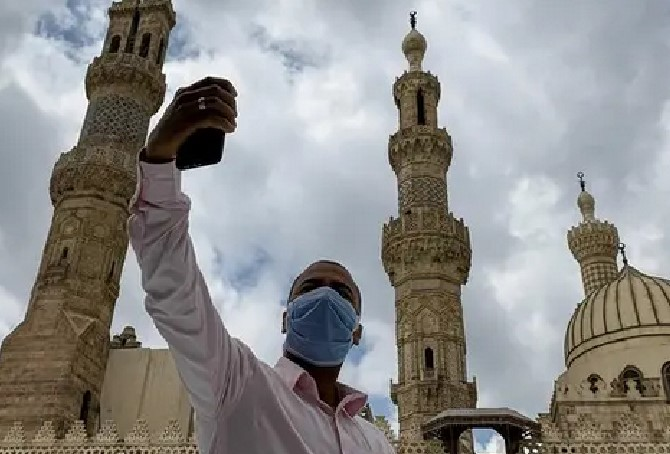face_with_mask: (284, 262, 362, 368)
